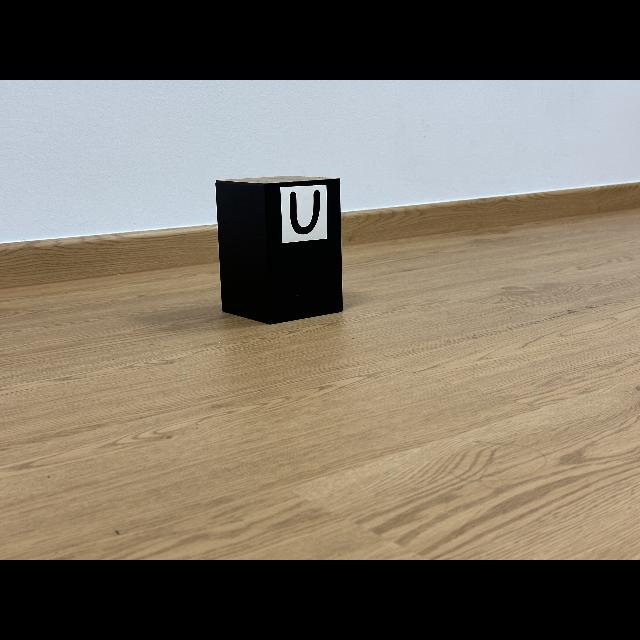U: (290, 190, 320, 235)
